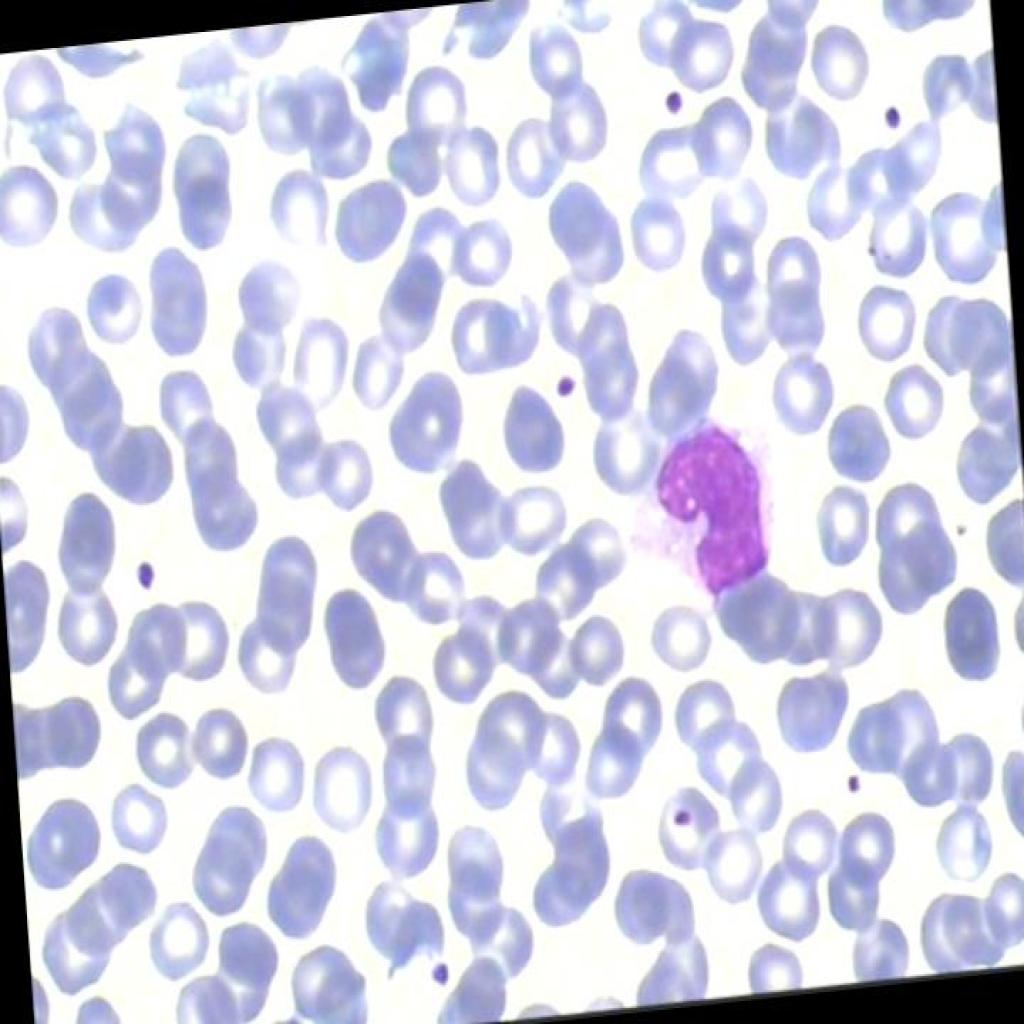Monosit: (624, 393, 800, 610)
Platelet: (122, 546, 178, 604), (539, 350, 587, 416), (651, 76, 700, 137), (421, 940, 455, 1001), (829, 756, 866, 804), (873, 92, 910, 140), (670, 800, 691, 836)
